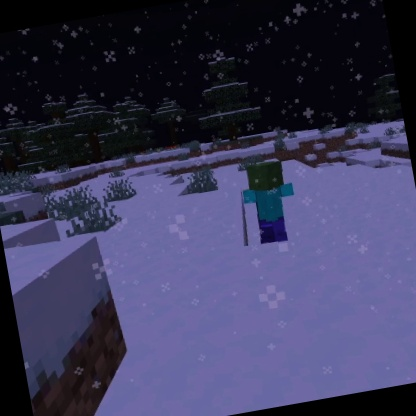zombie: (234, 154, 306, 248)
